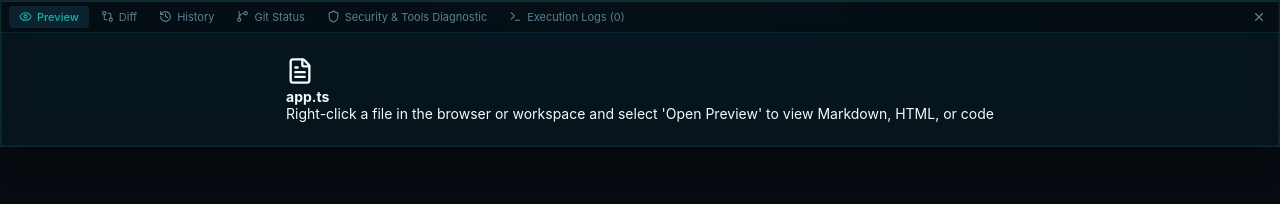
BottomTabPanel & Diff Operations (Phase 4.2) › displays diff in English correctly
This screenshot has width=1280, height=204.
Note: Switch to separated "Diff" tab
Click the button "Diff" at point(119, 16), box [91,6,147,28]
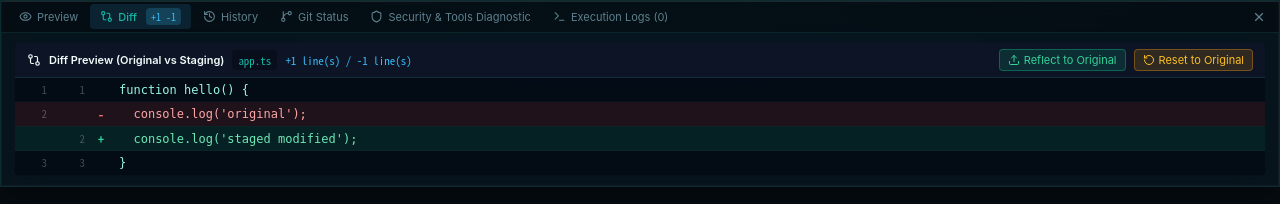
Expected: the text "Diff Preview (Original vs Staging)" is shown, [49,53,224,67]
Expected: the text "+1 line(s) / -1 line(s)" is shown, [285,52,412,68]
